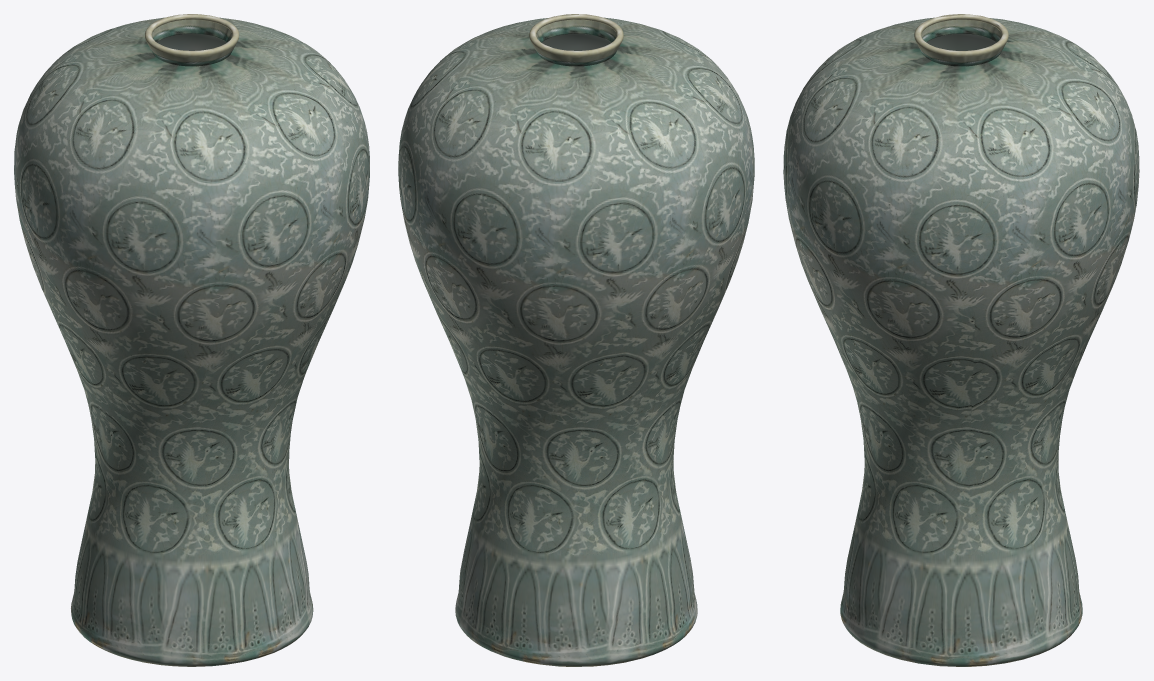
Rendered from beauty.glb.
3 views of the same model, side by side, from view 1: azimuth 30°, elevation 25°; view 2: azimuth 150°, elevation 25°; view 3: azimuth 270°, elevation 25° (orthographic).
Parts seen in each view (by area): view 1: Celadon_PhotoReference_Recreation; view 2: Celadon_PhotoReference_Recreation; view 3: Celadon_PhotoReference_Recreation.
Boxes of the visible parts, x1,y1,x2,y2 form: Celadon_PhotoReference_Recreation: (14,14,369,666); Celadon_PhotoReference_Recreation: (398,14,754,666); Celadon_PhotoReference_Recreation: (783,14,1139,666).
Bounding box in the file's own units: 0.2325 × 0.421 × 0.2325.
Materials: 1 (1 with a texture image).
